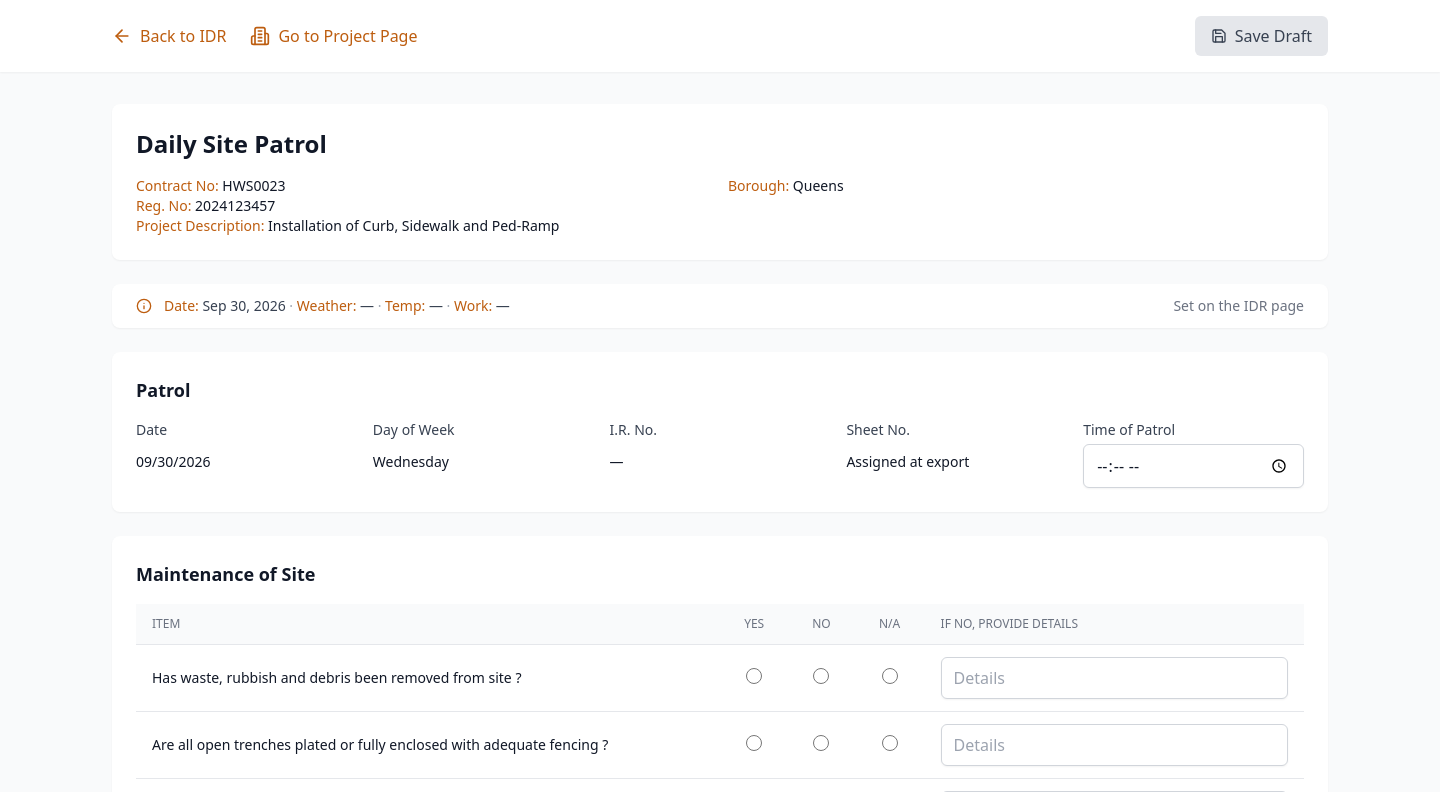
Test: DSPReportPage — editing and saving › warns on a No without details, and still saves
Expected: the text "Answered No: add details of what was found." is not shown
Click the radio button named "Are all open trenches plated or fully enclosed with adequate": (822, 743) x1=814 y1=735 x2=830 y2=751
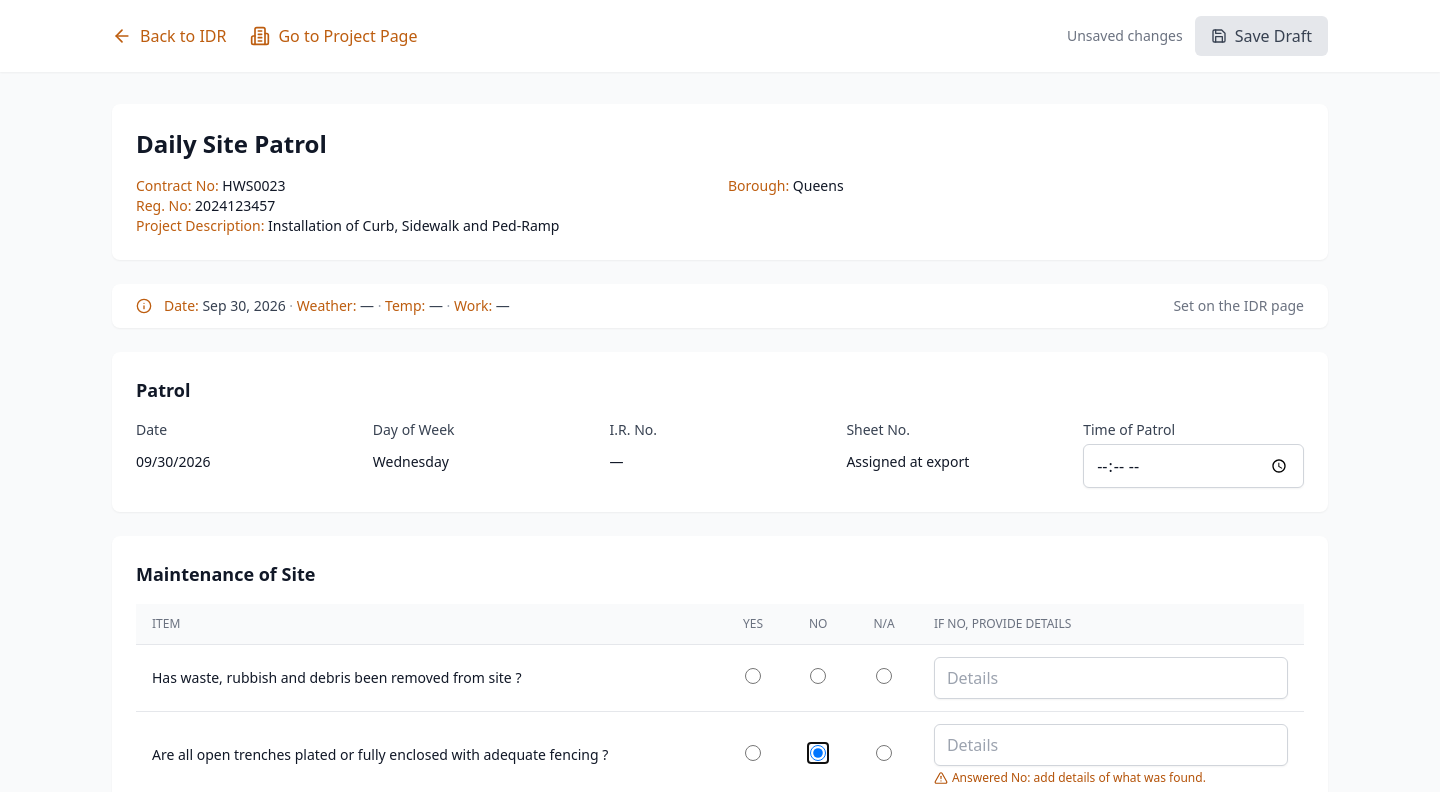
Result: the text "Answered No: add details of what was found." is shown at x1=934 y1=769 x2=1206 y2=786
Click the button "Save Draft": (1261, 36) x1=1195 y1=16 x2=1328 y2=56
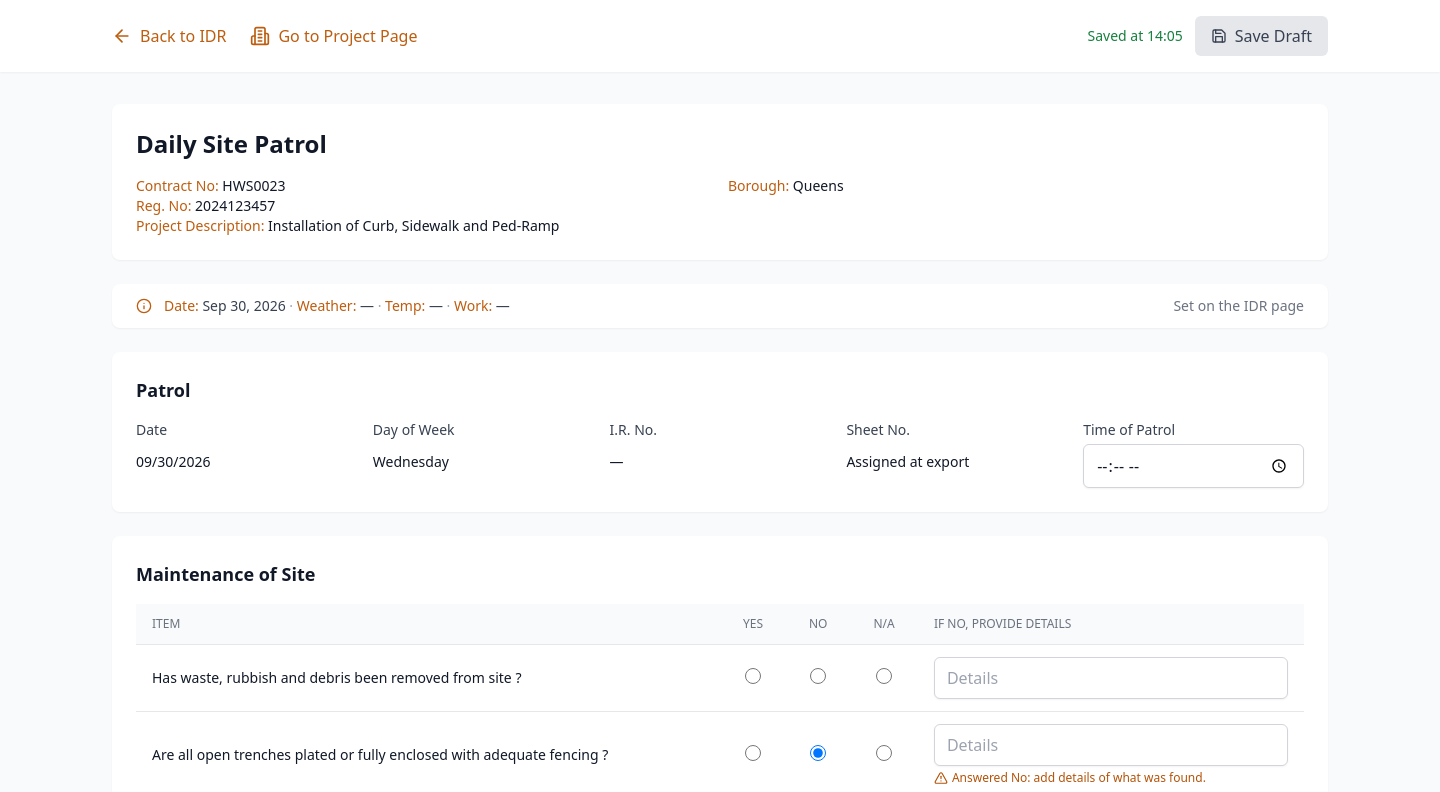
In the 2nd field with placeholder "Details": (1111, 745) x1=934 y1=724 x2=1288 y2=766, type "x"
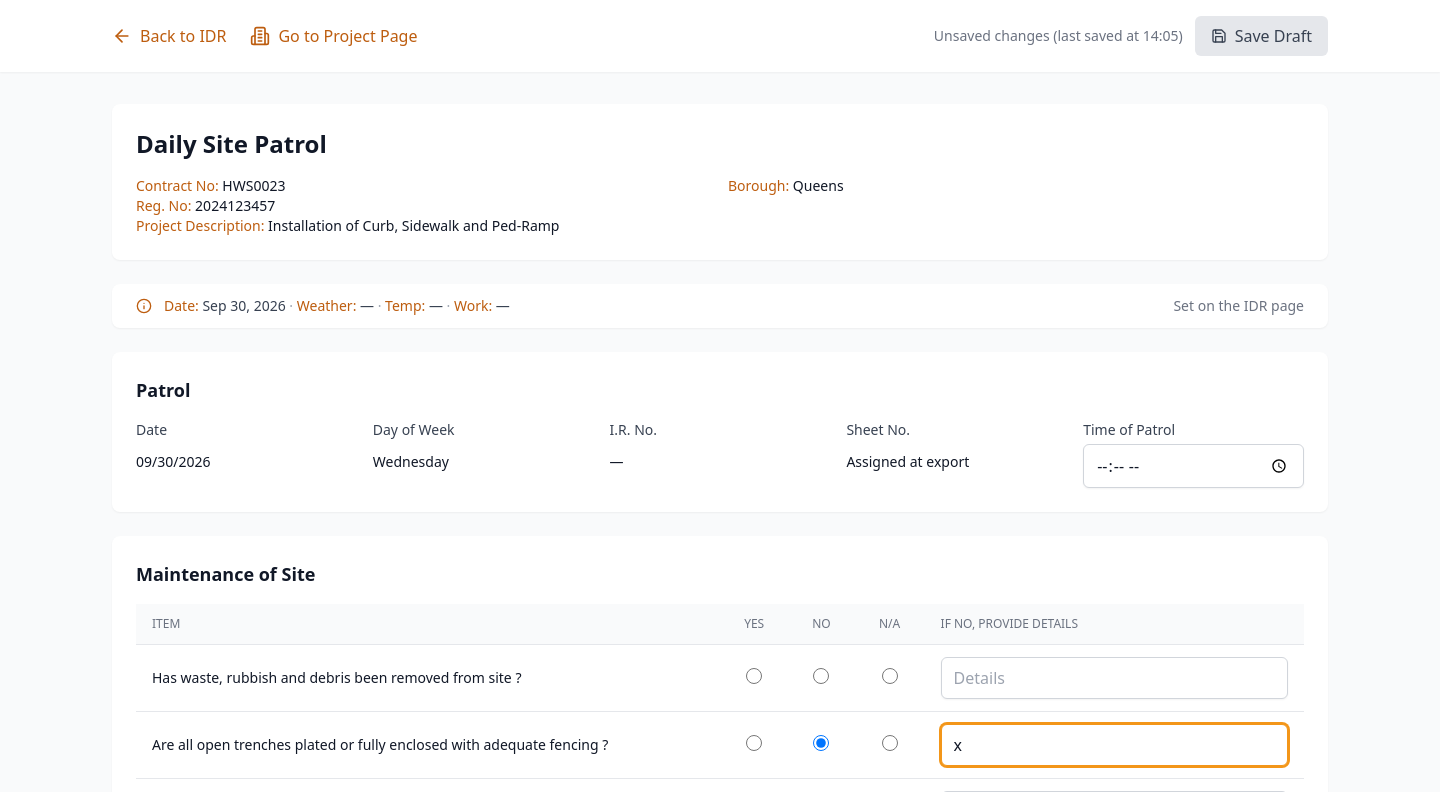
Result: the text "Answered No: add details of what was found." is gone
